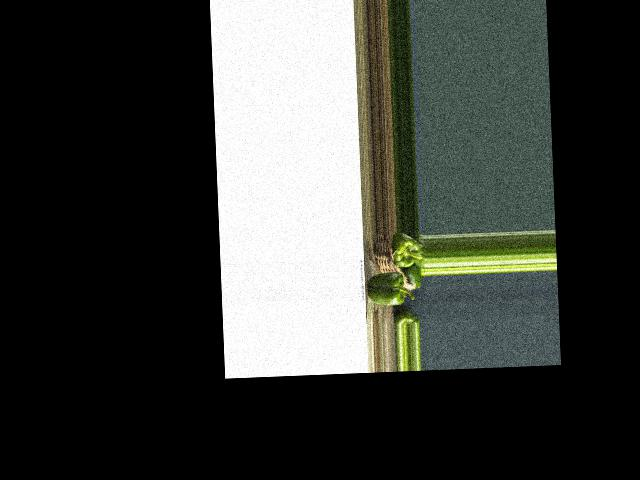bell_pepper: (397, 310, 418, 325)
